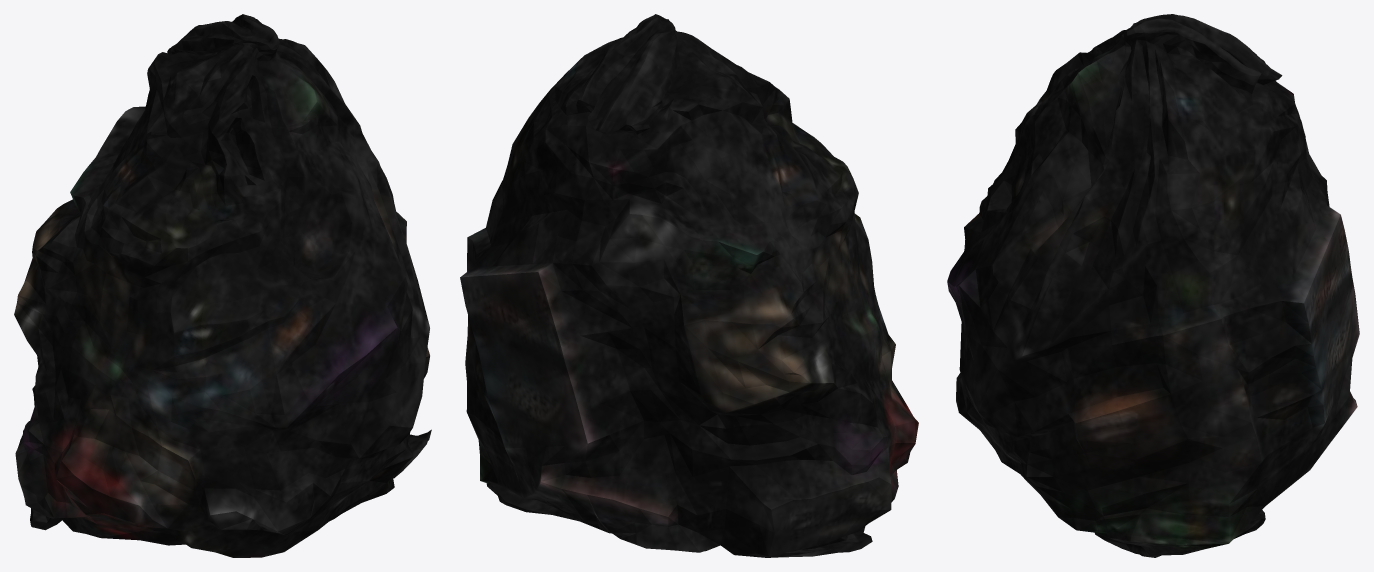
Rendered from Trashbag.obj.
3 views of the same model, side by side, from view 1: azimuth 30°, elevation 25°; view 2: azimuth 150°, elevation 25°; view 3: azimuth 270°, elevation 25° (orthographic). The views are drawn at different scales.
Parts seen in each view (by area): view 1: Plane_006; view 2: Plane_006; view 3: Plane_006.
Boxes of the visible parts, <box> form: Plane_006: <box>14,14,431,557</box>; Plane_006: <box>460,14,918,557</box>; Plane_006: <box>947,14,1359,557</box>.
Bounding box in the file's own units: 0.528 × 0.575 × 0.4628.
Materials: 1 (1 with a texture image).
